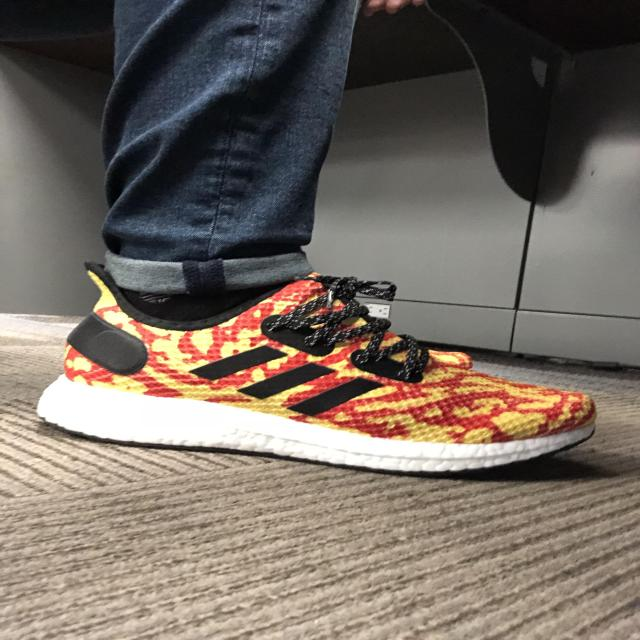shoe: (38, 263, 601, 479)
